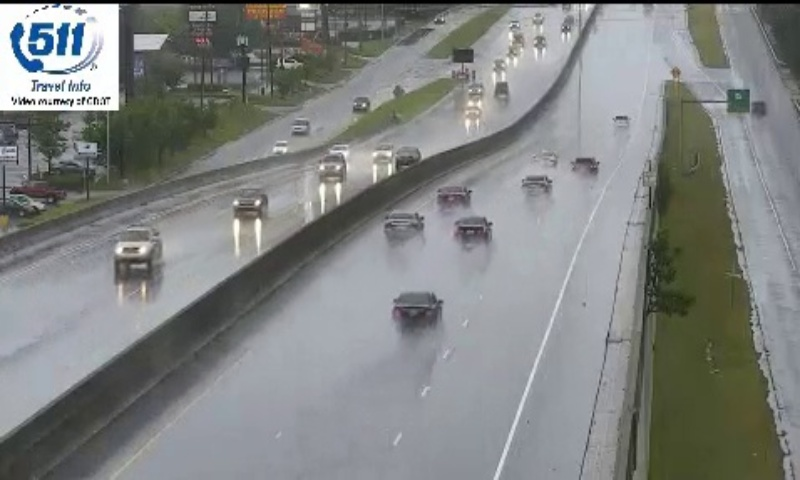car: (391, 291, 441, 327), (384, 209, 423, 240), (453, 215, 490, 245), (436, 184, 471, 209), (521, 173, 553, 198), (571, 156, 600, 179)
